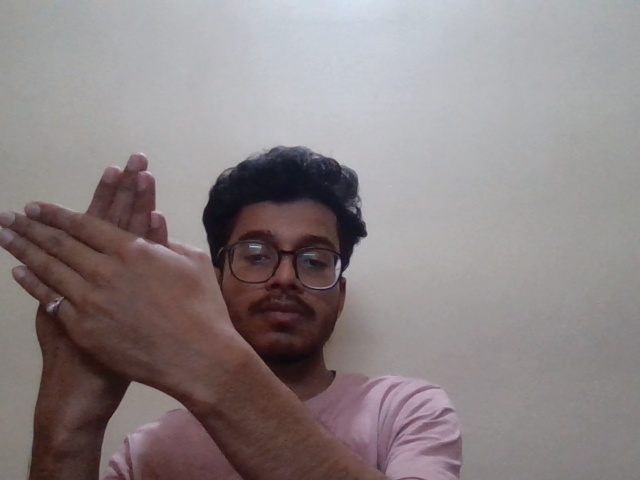what: (1, 154, 222, 361)
